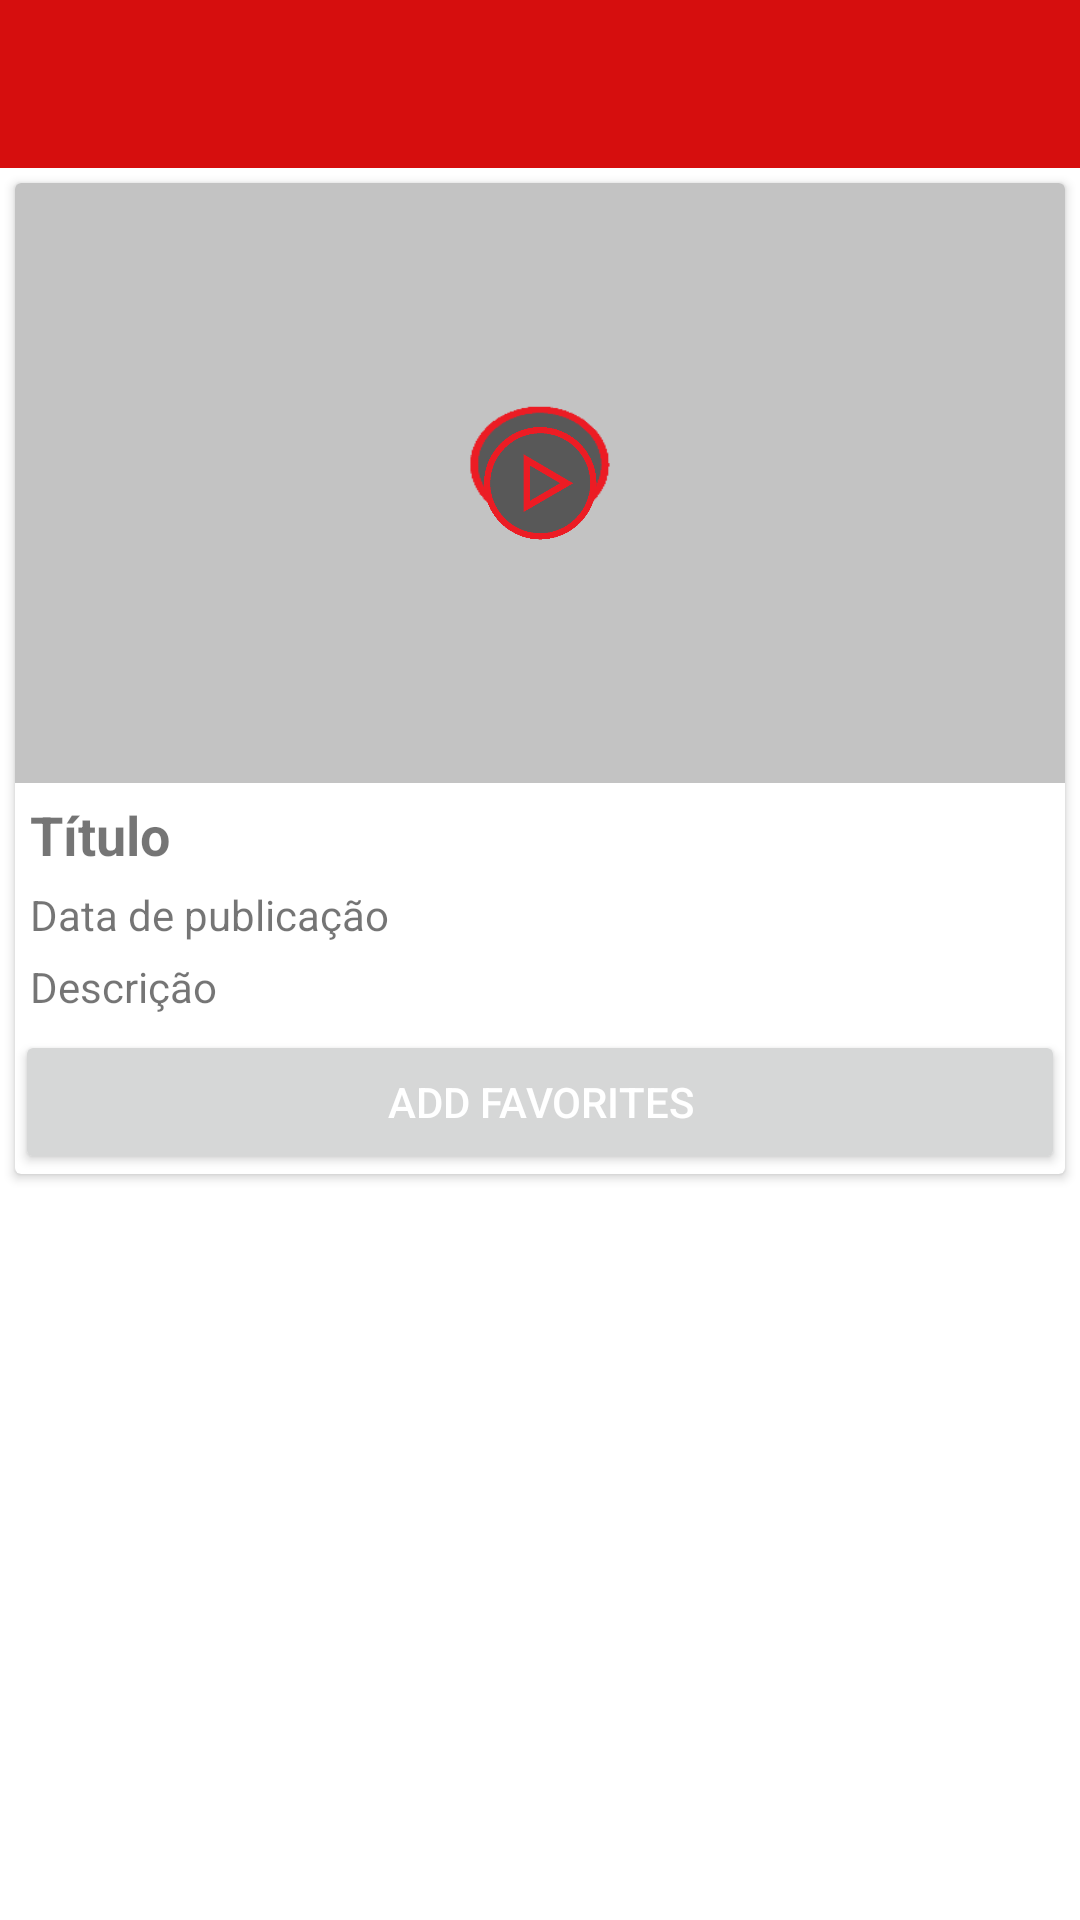

Locate icon controls on the screen. Image size 1080 × 1920, boxes as [x1, y1, x2, y2].
youtube player: [470, 408, 610, 540]
